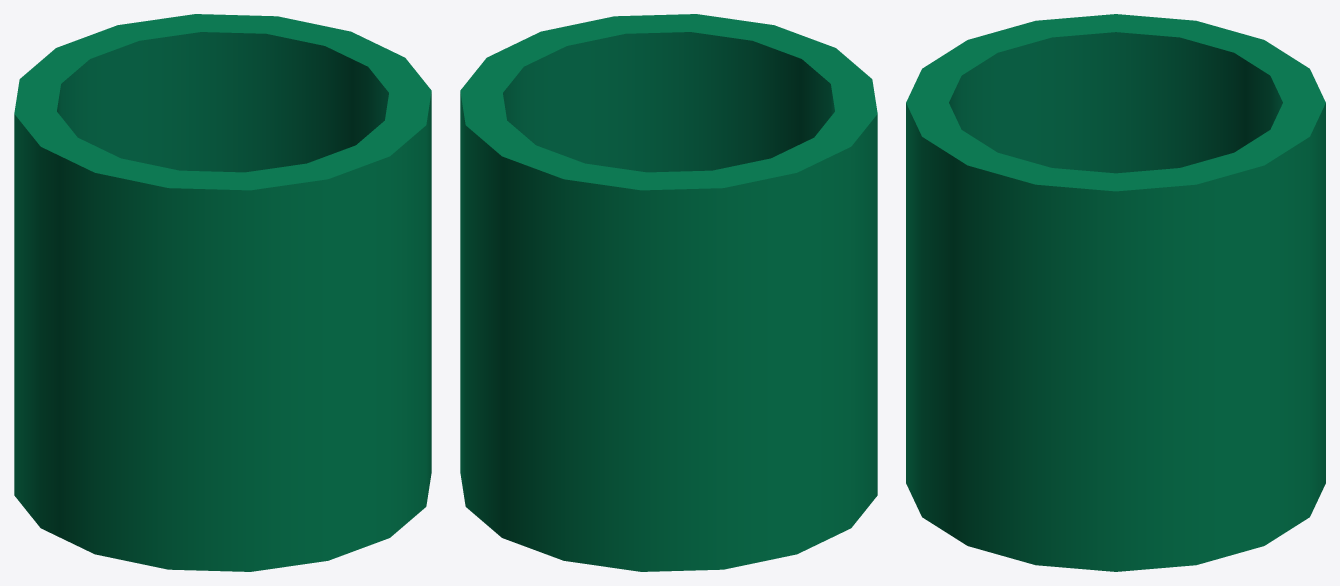
The model's file is pipe_straight_A_green.glb.
The picture shows the model from 3 angles, left to right: view 1: azimuth 30°, elevation 25°; view 2: azimuth 150°, elevation 25°; view 3: azimuth 270°, elevation 25°; orthographic projection.
Visible parts, largest first — view 1: pipe_straight_A_green; view 2: pipe_straight_A_green; view 3: pipe_straight_A_green.
Part boxes in pixels (left/top/right/bottom): pipe_straight_A_green: left=14, top=14, right=431, bottom=571; pipe_straight_A_green: left=460, top=14, right=877, bottom=571; pipe_straight_A_green: left=906, top=14, right=1325, bottom=571.
Size of the model in its own units: 2 by 2 by 2.
1 material, 1 textured.
